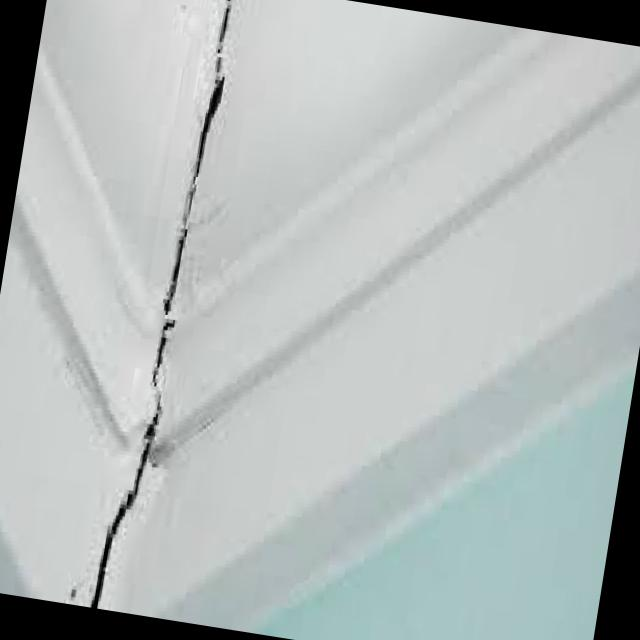crack: (89, 0, 247, 612)
